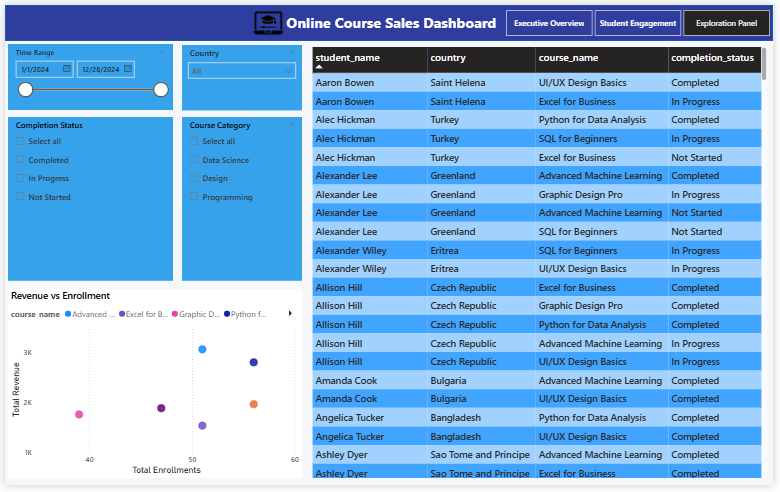

The dashboard page shown, as its layout file describes it:
{"tool":"powerbi","page":{"name":"Exploration Panel","canvas":[1280,800],"ordinal":2},"visuals":[{"type":"shape","box":[0,0,1280,60],"z":0},{"type":"textbox","box":[455.9,6.7,375,46.7],"z":1000},{"type":"tableEx","title":"Monthly Revenue Trend","fields":{"Values":["students.student_name","students.country","courses.course_name","enrollments.completion_status"]},"box":[506.7,65,768.3,726.7],"z":3000},{"type":"scatterChart","title":"Revenue vs Enrollment","fields":{"X":["_Measures.Total Enrollments"],"Series":["courses.course_name"],"Y":["_Measures.Total Revenue"]},"box":[5,473.3,490,315],"z":6000},{"type":"image","box":[404.2,0,68.3,60],"z":7000},{"type":"slicer","fields":{"Values":["courses.category"]},"box":[295,186.7,200,273.3],"z":8000},{"type":"slicer","fields":{"Values":["enrollments.enroll_date"]},"box":[4.8,65.6,275.2,108.8],"z":9000},{"type":"slicer","fields":{"Values":["students.country"]},"box":[294.4,67.2,200,108.8],"z":10000},{"type":"slicer","fields":{"Values":["enrollments.completion_status"]},"box":[5,186.7,275,273.3],"z":11000},{"type":"pageNavigator","box":[835,8.3,440,43.3],"z":12000}]}

Visuals, with their boxes in screenshot pixels (x1, y1, x2, y2), scaled from the page's 1280x800 canvas onto the 780x492 screenshot:
shape: region(0, 0, 779, 37)
textbox: region(278, 4, 506, 33)
"Monthly Revenue Trend" tableEx: region(309, 40, 777, 487)
"Revenue vs Enrollment" scatterChart: region(3, 291, 302, 485)
image: region(246, 0, 288, 37)
slicer - courses.category: region(180, 115, 302, 283)
slicer - enrollments.enroll_date: region(3, 40, 171, 107)
slicer - students.country: region(179, 41, 301, 108)
slicer - enrollments.completion_status: region(3, 115, 171, 283)
pageNavigator: region(509, 5, 777, 32)
